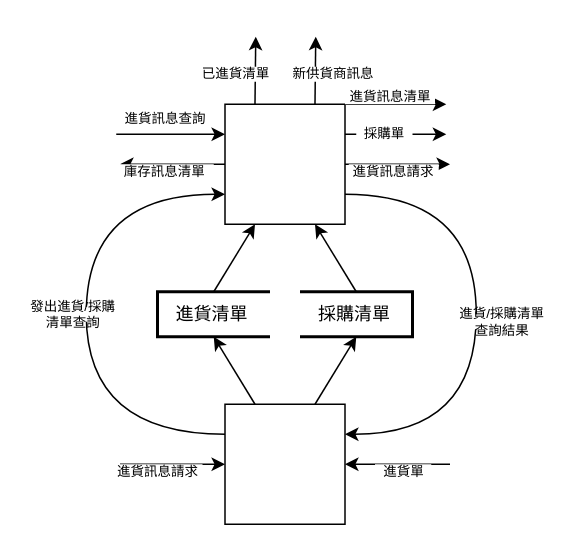
Some shapes in this 575 by 551 pixel diagram are drawn without their labels. Here are the shapes that lost their labels. From the top down, the centre of each, then its label:
pixel 284 163: 3:查詢
pixel 284 463: 3:更新
